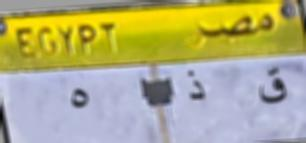5: (63, 85, 100, 112)
qaaf: (253, 63, 292, 107)
zaal: (179, 65, 210, 102)
